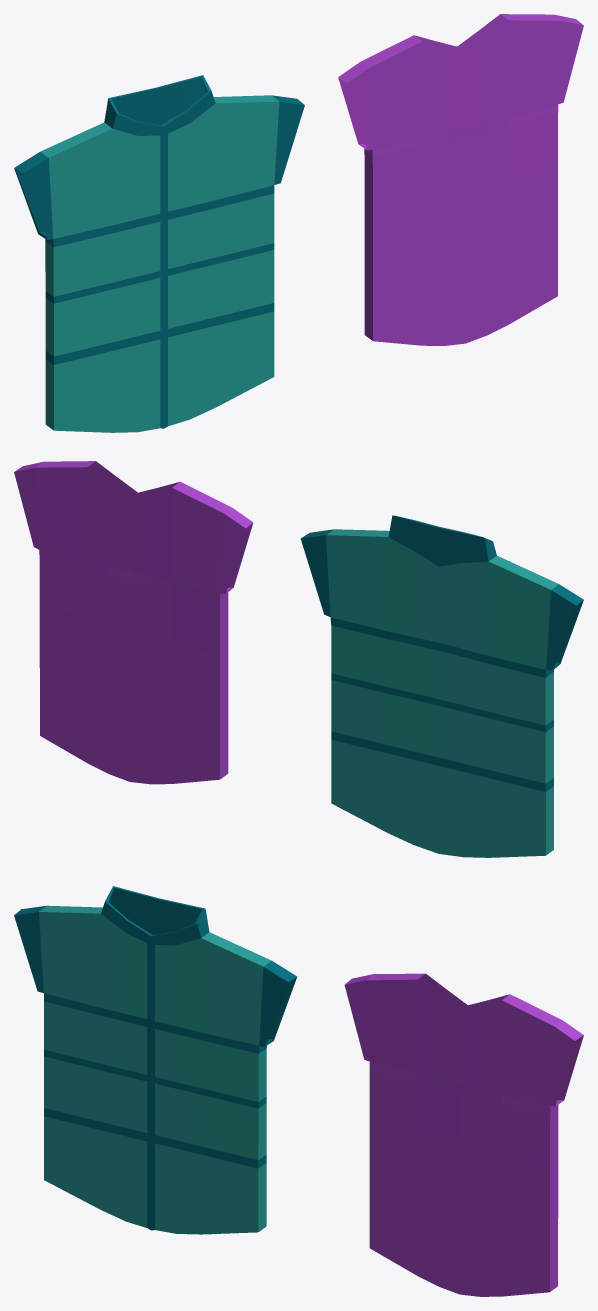
The model's file is clothe-1.fbx.
3 renders of one model, top to bottom at view 1: azimuth 30°, elevation 25°; view 2: azimuth 150°, elevation 25°; view 3: azimuth 330°, elevation 25°, orthographic. The views are drawn at different scales.
Visible parts, largest first — view 1: Plane.001, Plane; view 2: Plane.001, Plane; view 3: Plane.001, Plane.
Boxes of the visible parts, x1,y1,x2,y2 form: Plane.001: (14, 75, 304, 432); Plane: (338, 14, 583, 345); Plane.001: (300, 515, 583, 857); Plane: (14, 461, 253, 784); Plane.001: (14, 886, 297, 1234); Plane: (344, 973, 583, 1296).
Bounding box in the file's own units: 211 × 119 × 10.72.
